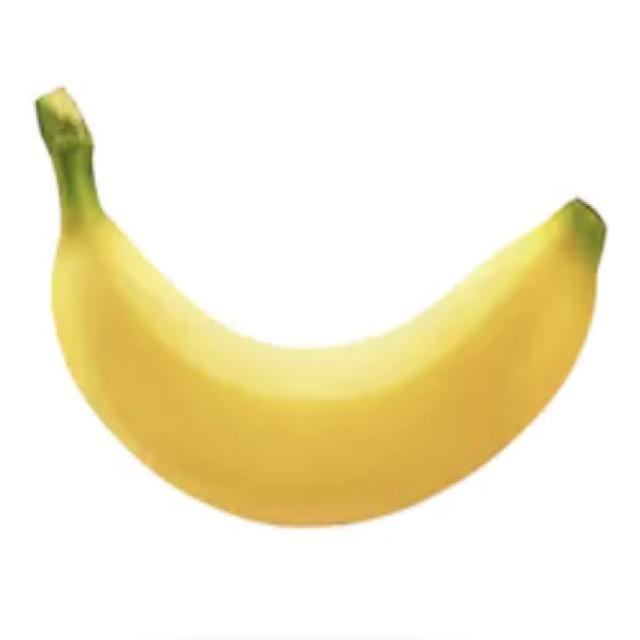Banana: (33, 84, 607, 527)
